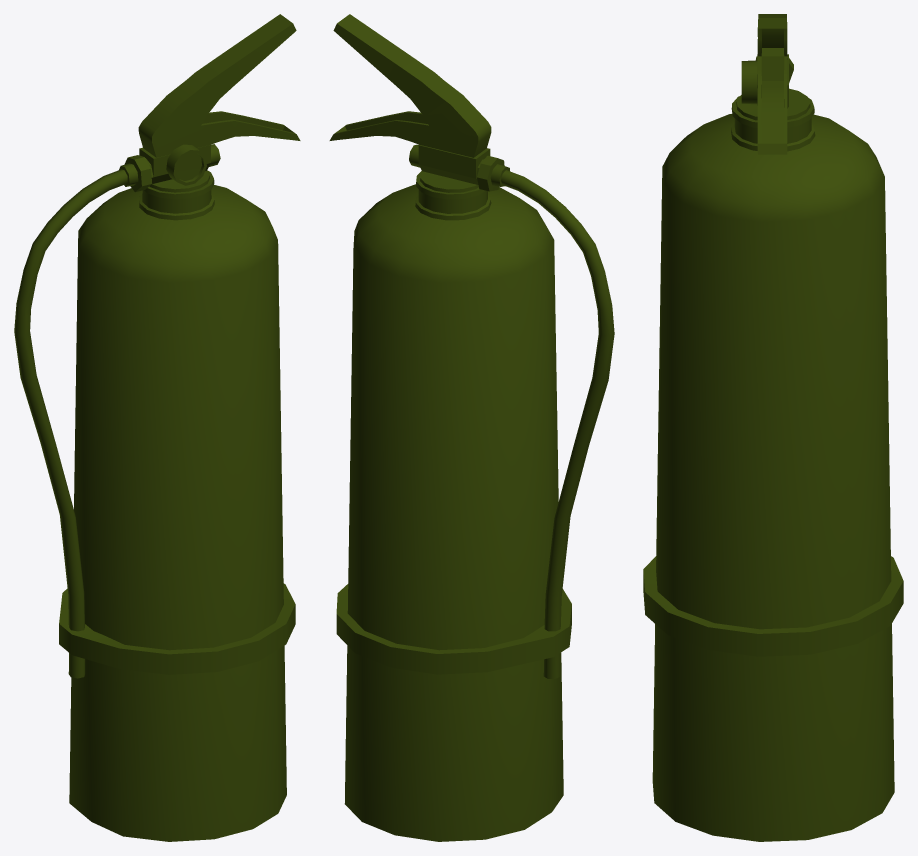
File: Extinguisher_M.fbx
The picture shows the model from 3 angles, left to right: view 1: azimuth 30°, elevation 25°; view 2: azimuth 150°, elevation 25°; view 3: azimuth 270°, elevation 25°; orthographic projection. The views are drawn at different scales.
Visible parts, largest first — view 1: Extinguisher; view 2: Extinguisher; view 3: Extinguisher.
Boxes of the visible parts, <box> form: Extinguisher: <box>14,14,300,841</box>; Extinguisher: <box>329,14,614,841</box>; Extinguisher: <box>643,14,903,841</box>.
Size of the model in its own units: 0.1093 by 0.2817 by 0.0798.
